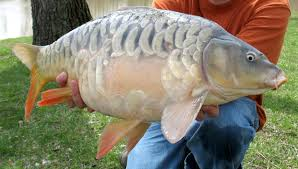carp: (12, 6, 291, 144)
